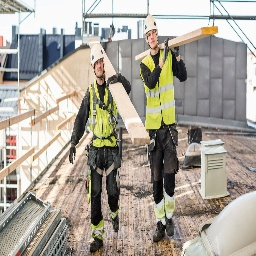helmet: (88, 43, 106, 65), (144, 17, 160, 37)
person: (140, 15, 181, 239), (82, 40, 121, 244)
vest: (142, 48, 181, 129), (87, 83, 120, 155)
